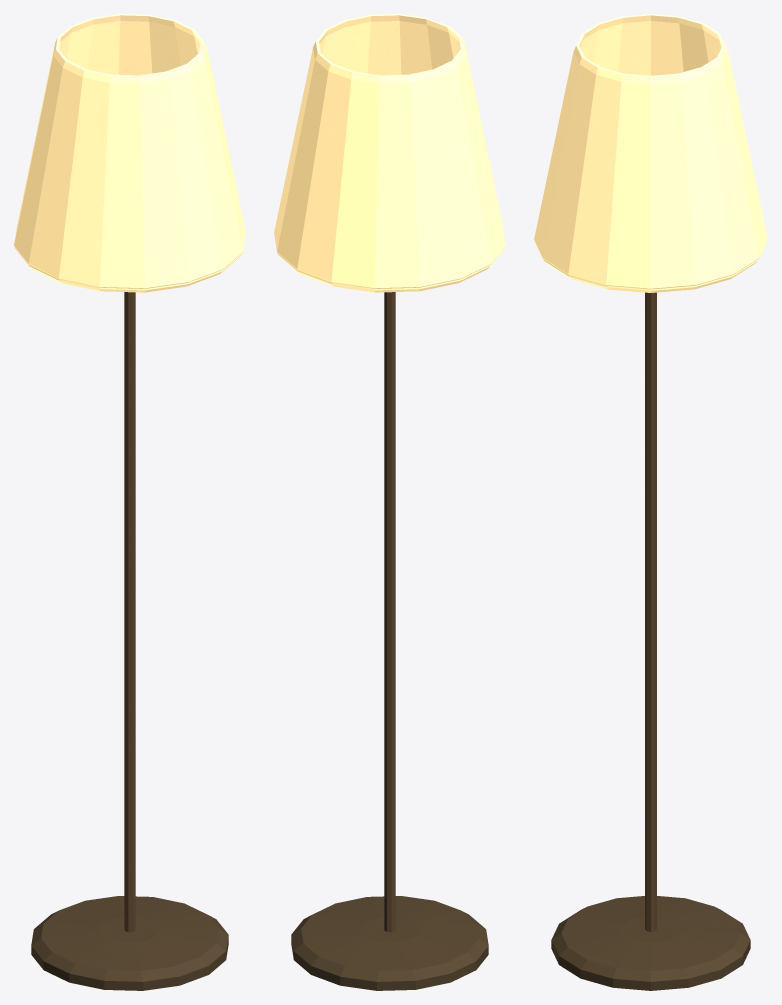
Rendered from floor_lamp.glb.
The picture shows the model from 3 angles, left to right: view 1: azimuth 30°, elevation 25°; view 2: azimuth 150°, elevation 25°; view 3: azimuth 270°, elevation 25°; orthographic projection.
Visible parts, largest first — view 1: home_floor_lamp; view 2: home_floor_lamp; view 3: home_floor_lamp.
Part boxes in pixels (x1,y1,x2,y2): home_floor_lamp: [14, 14, 245, 990]; home_floor_lamp: [274, 14, 505, 990]; home_floor_lamp: [534, 14, 767, 990].
Size of the model in its own units: 0.35 by 1.5 by 0.35.
2 materials, 2 textured.
